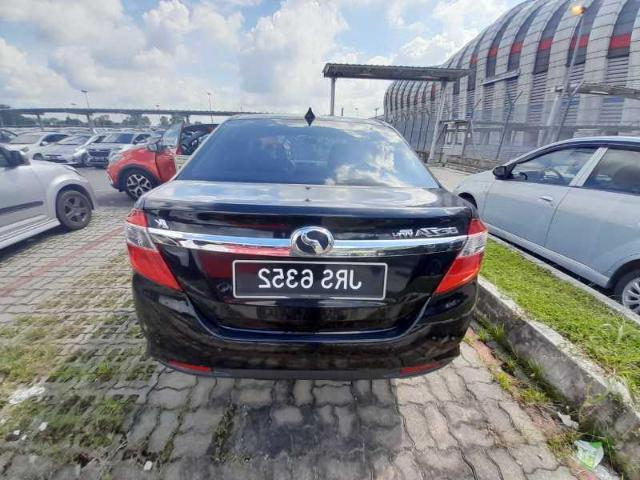License_Plate: (232, 261, 388, 302)
car: (125, 109, 489, 381)
